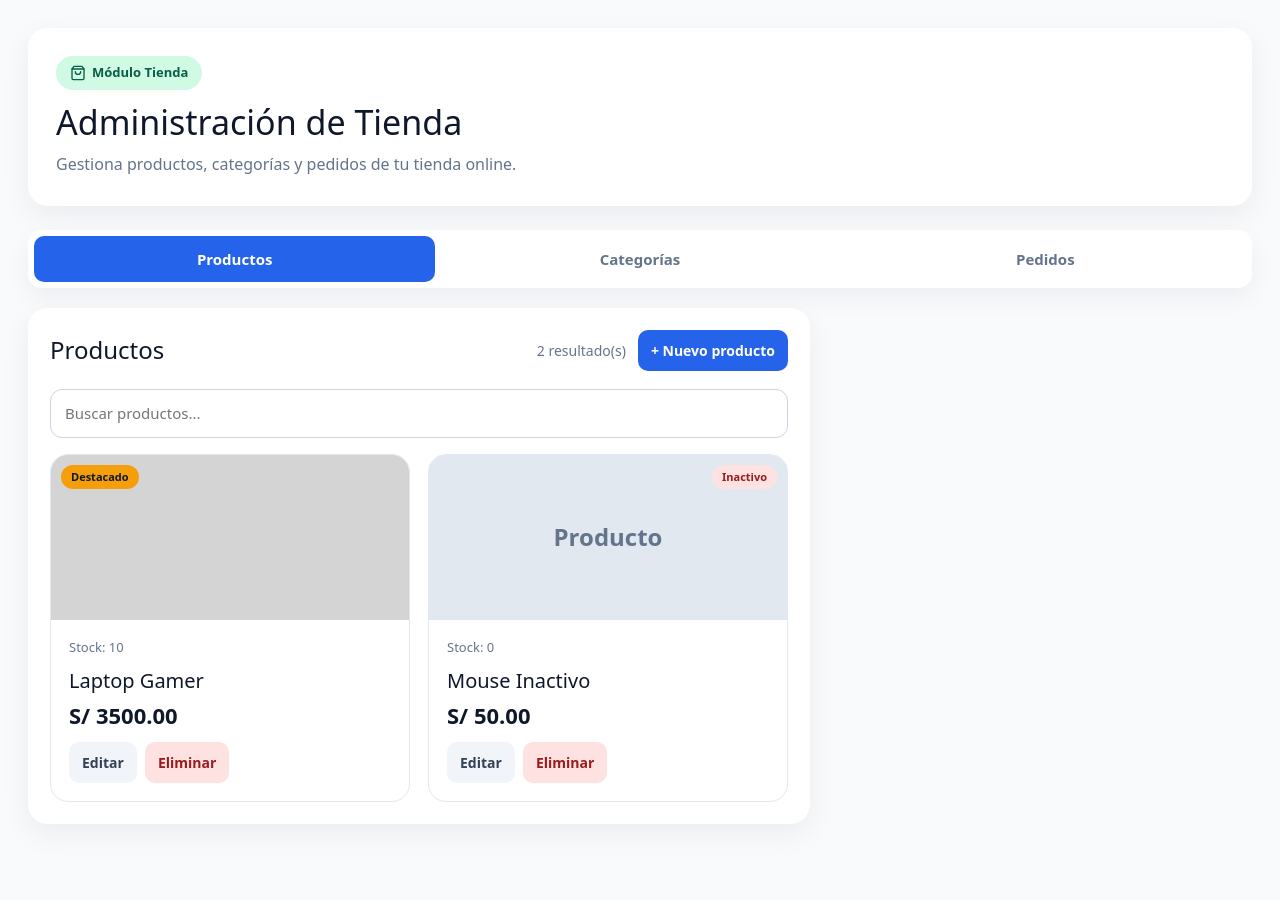
Scenario: Tienda page › filters products by search
Check: the heading "Laptop Gamer" is shown, box [69,667,204,694]
Type "mouse" into the search field with placeholder "Buscar productos...".
click(419, 414); type("mouse")  # box [50,389,788,438]
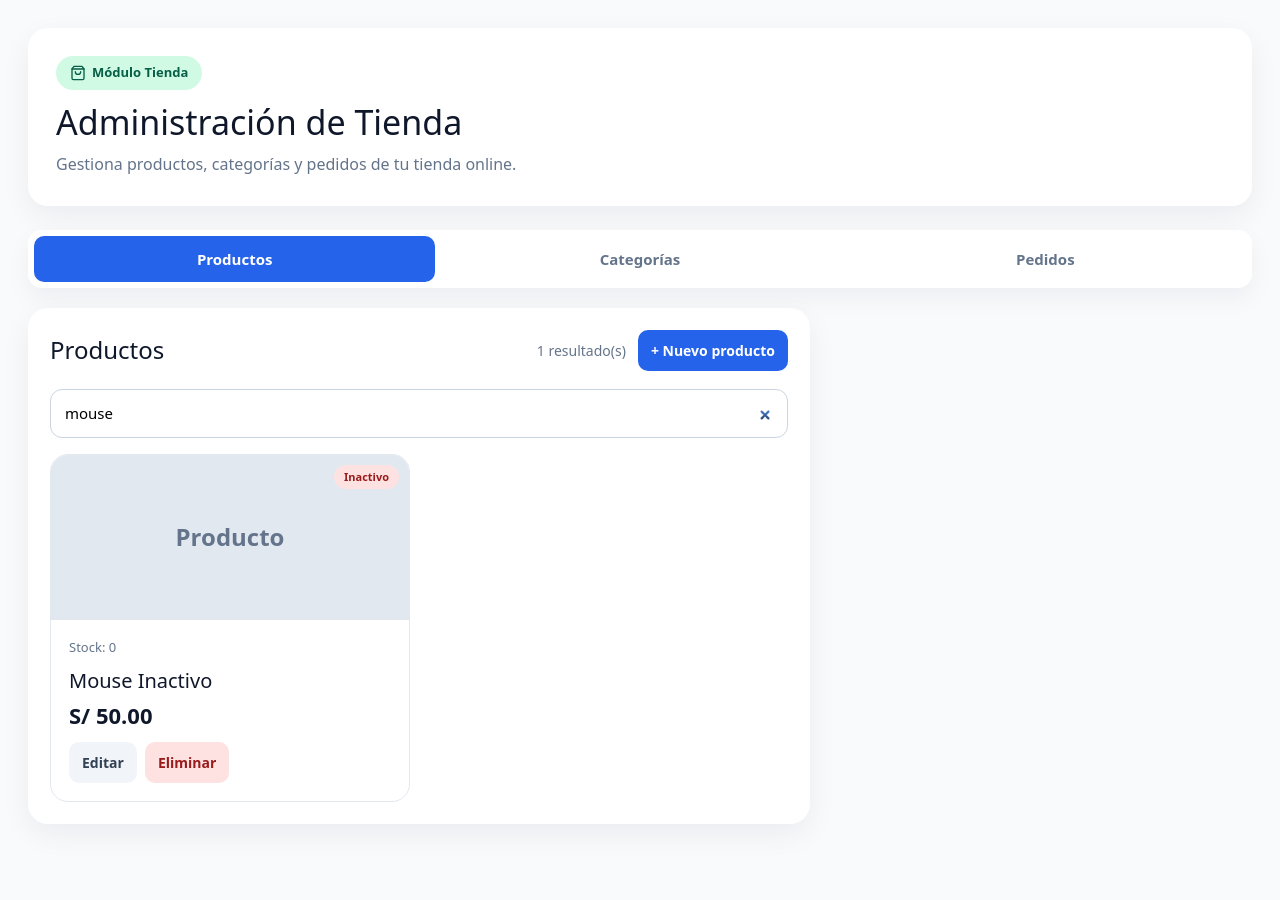
Check: the heading "Mouse Inactivo" is shown, box [69,667,212,694]
Check: the heading "Laptop Gamer" is gone
Check: the text "1 resultado(s)" is shown, box [537,340,626,361]
